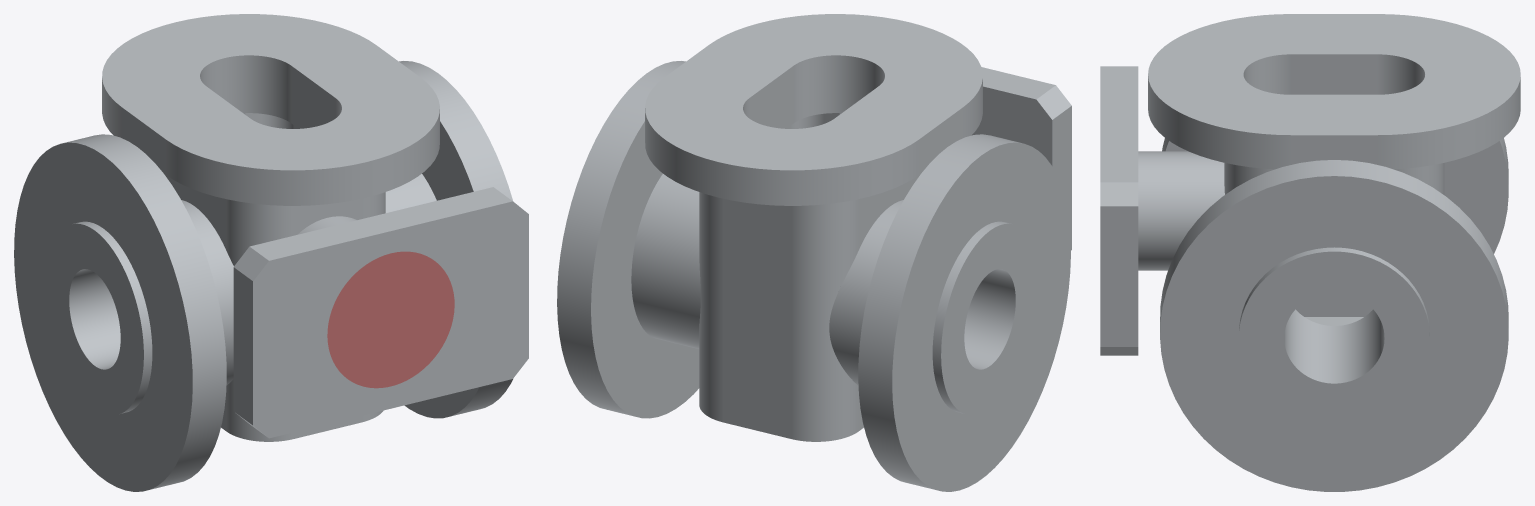
Rendered from step_10.glb.
3 views of the same model, side by side, from view 1: azimuth 30°, elevation 25°; view 2: azimuth 150°, elevation 25°; view 3: azimuth 270°, elevation 25° (orthographic). The views are drawn at different scales.
Visible parts, largest first — view 1: part__valve body, removed__valve body; view 2: part__valve body; view 3: part__valve body.
Part boxes in pixels (x1=…): part__valve body: x1=14, y1=14, x2=528, y2=491; removed__valve body: x1=327, y1=251, x2=454, y2=388; part__valve body: x1=557, y1=14, x2=1071, y2=491; part__valve body: x1=1100, y1=14, x2=1520, y2=491.
Size of the model in its own units: 166 by 156 by 176.
